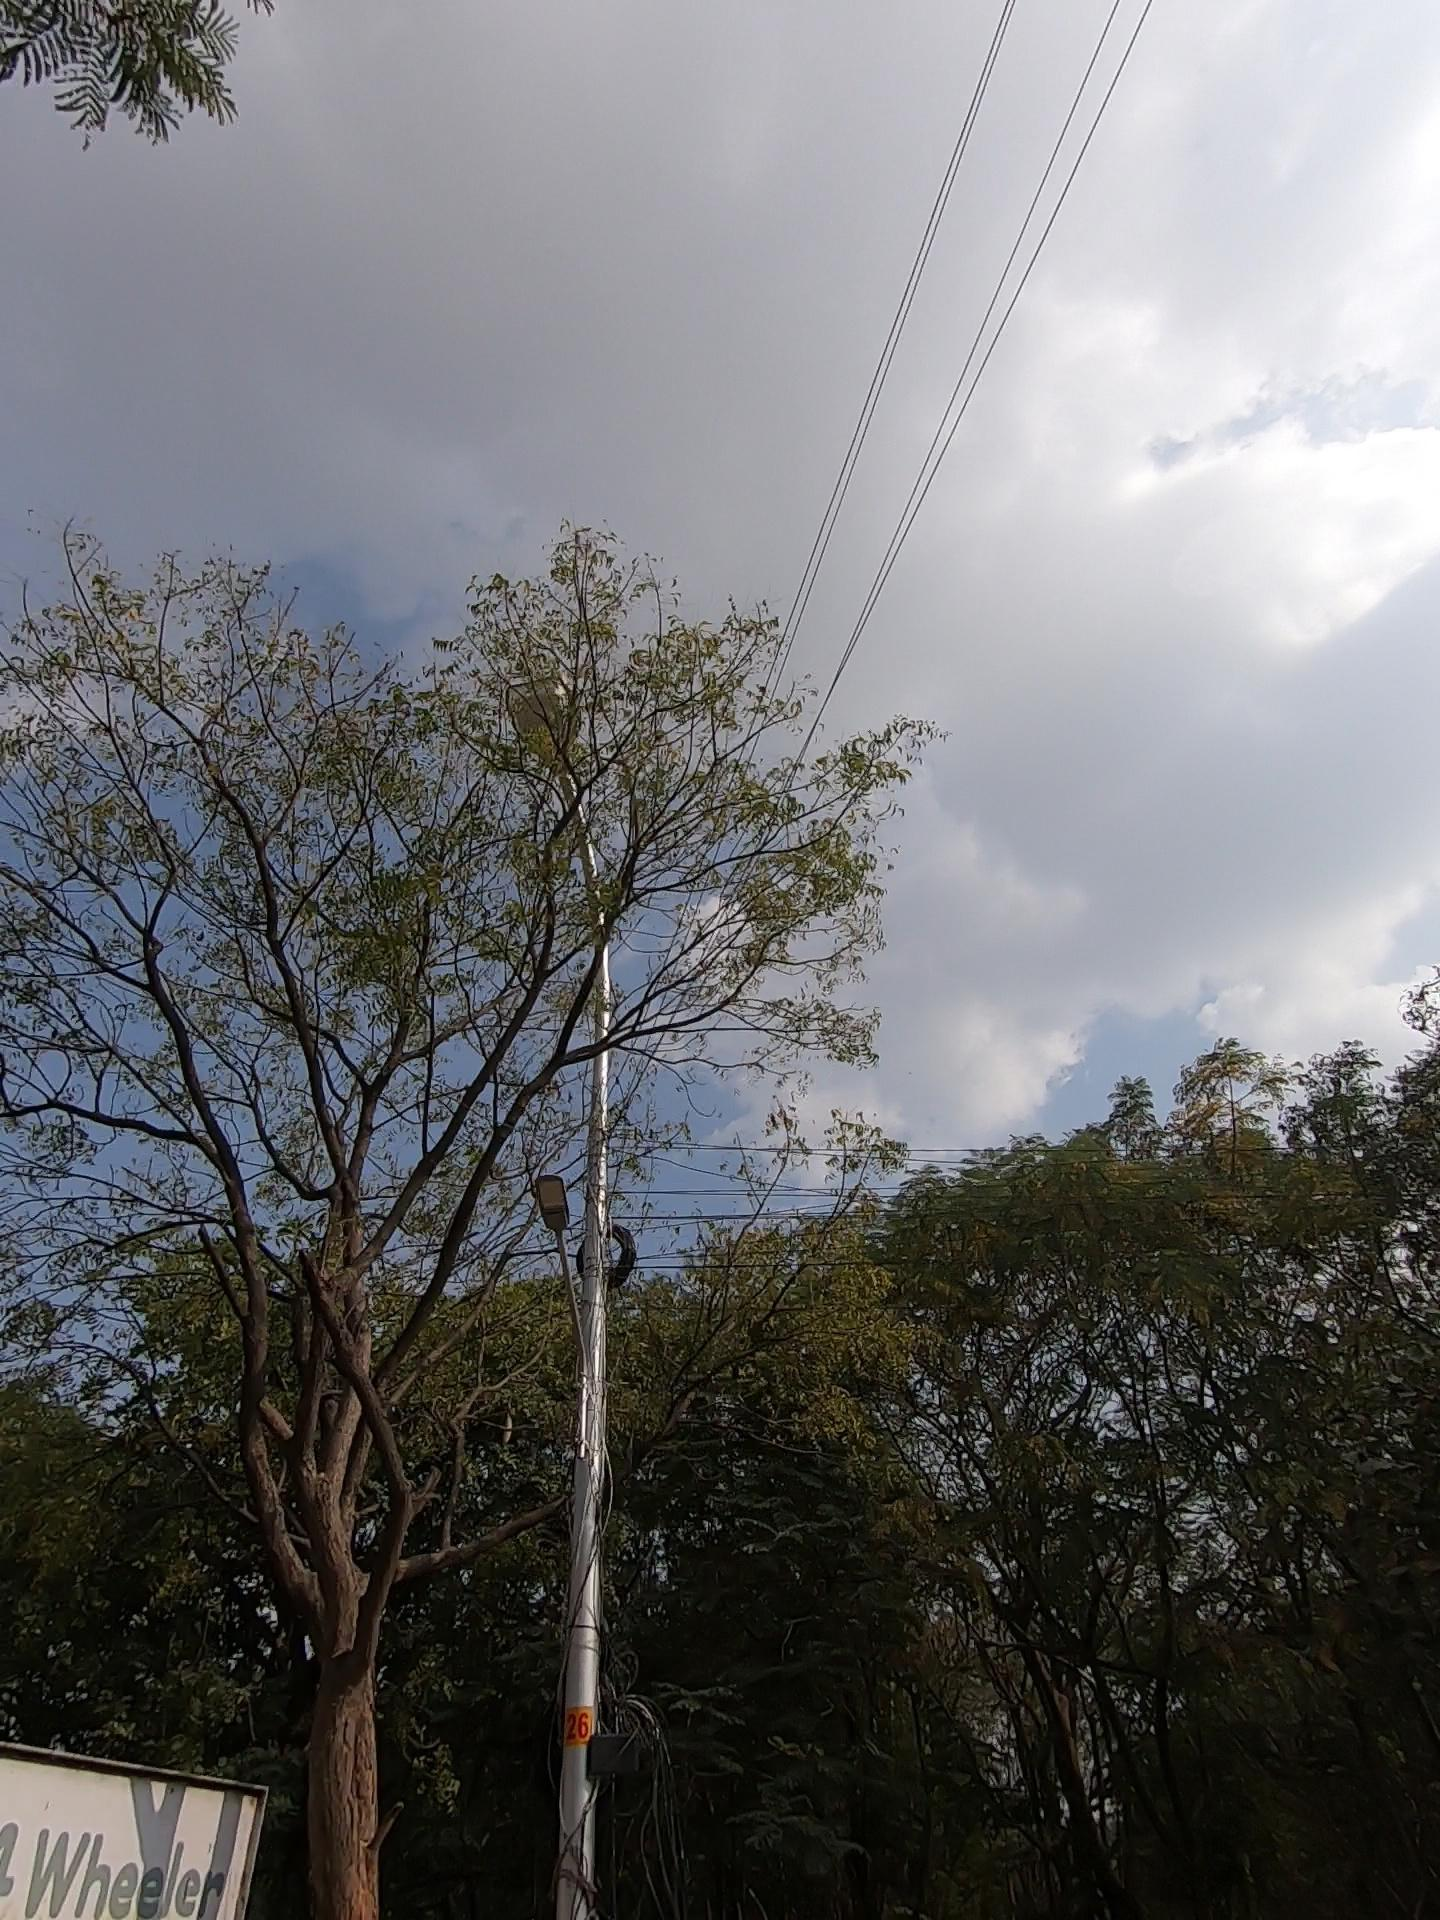off: (445, 611, 747, 1155)
